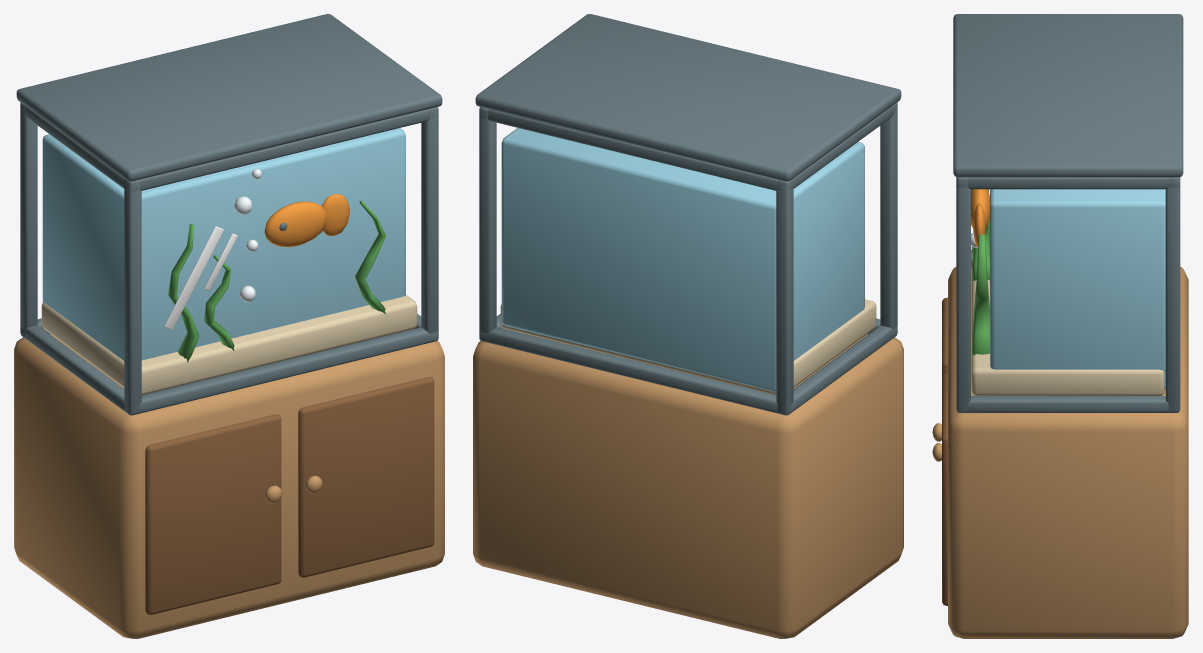
Rendered from fish-tank.glb.
3 renders of one model, left to right at view 1: azimuth 30°, elevation 25°; view 2: azimuth 150°, elevation 25°; view 3: azimuth 270°, elevation 25°, orthographic.
Visible parts, largest first — view 1: tank, stand; view 2: tank, stand; view 3: tank, stand.
Boxes of the visible parts, box(x1,y1,x2,y2) form: tank: box(16, 14, 442, 415); stand: box(14, 334, 444, 638); tank: box(475, 14, 901, 415); stand: box(473, 334, 903, 638); tank: box(953, 14, 1183, 412); stand: box(932, 267, 1188, 638).
Bounding box in the file's own units: 0.72 × 1 × 0.49.
